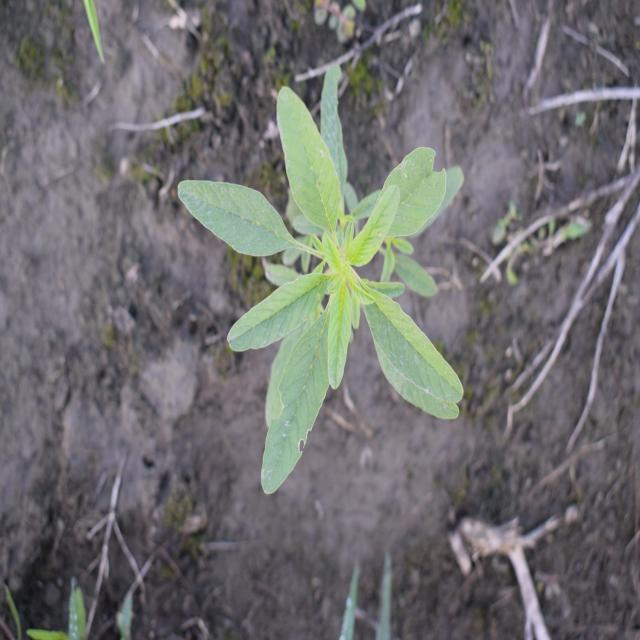Waterhemp: (175, 61, 466, 498)
